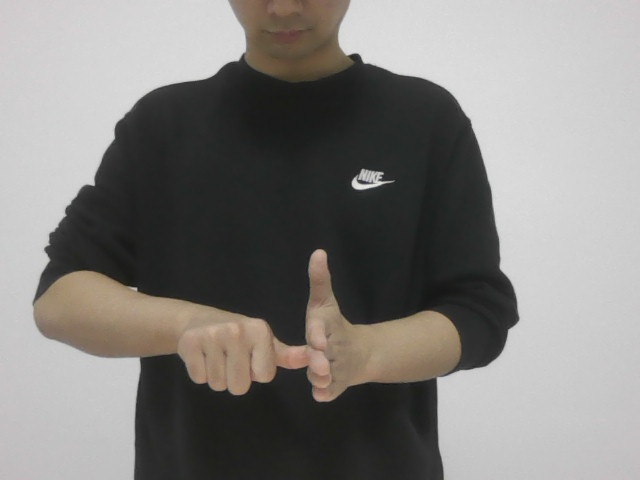time: (171, 239, 355, 416)
